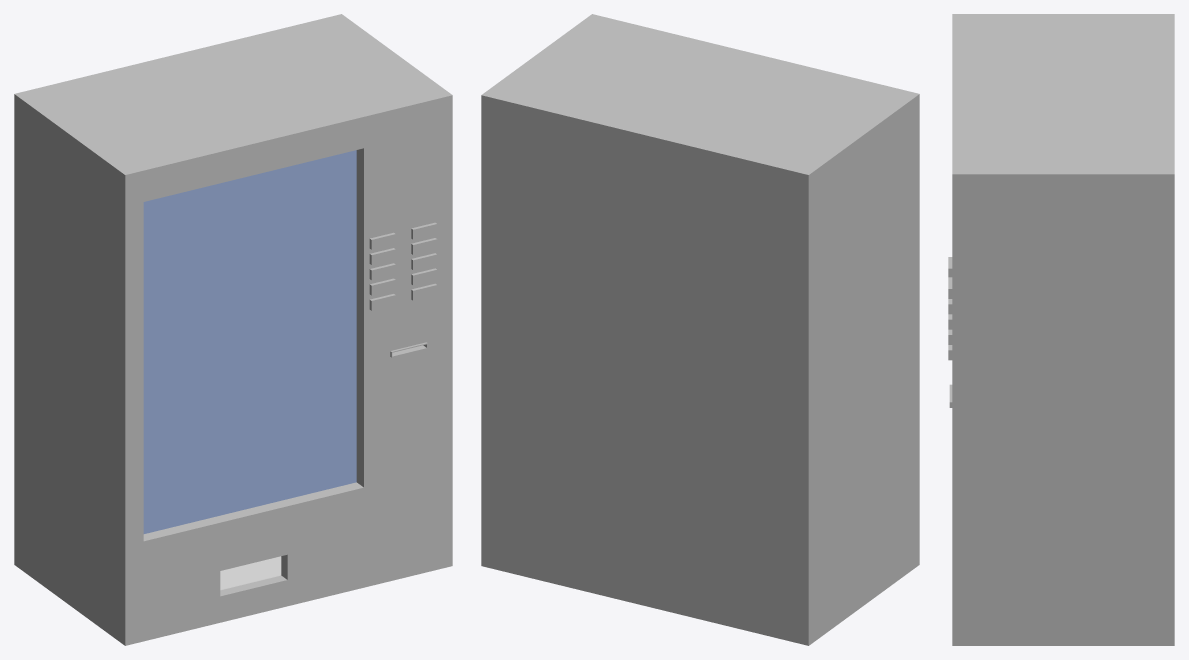
File: SM_FoodMachine_01_A.gltf
3 renders of one model, left to right at view 1: azimuth 30°, elevation 25°; view 2: azimuth 150°, elevation 25°; view 3: azimuth 270°, elevation 25°, orthographic.
Parts seen in each view (by area): view 1: FoodMachine_01_A, FoodMachineGlass_01_A; view 2: FoodMachine_01_A; view 3: FoodMachine_01_A.
Boxes of the visible parts, box(x1,y1,x2,y2) form: FoodMachine_01_A: box(14, 14, 452, 645); FoodMachineGlass_01_A: box(143, 150, 356, 533); FoodMachine_01_A: box(481, 14, 919, 645); FoodMachine_01_A: box(948, 14, 1174, 645).
Size of the model in its own units: 1.5 by 2.06 by 0.8948.
